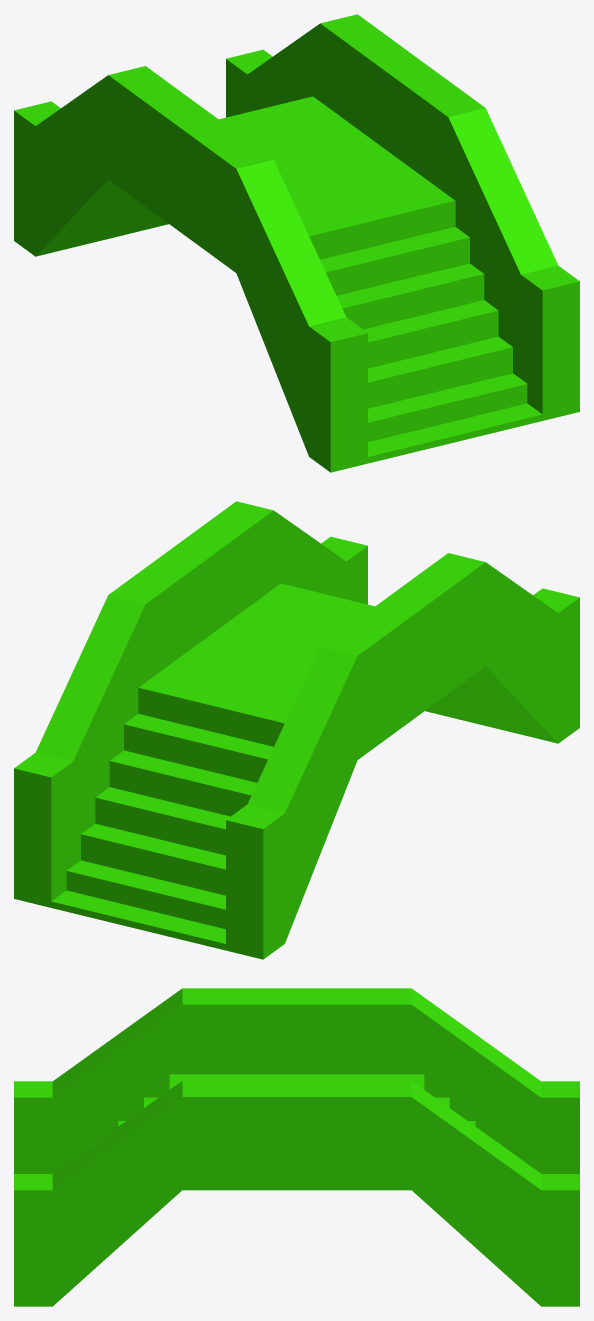
The model's file is bridge.fbx.
3 renders of one model, top to bottom at view 1: azimuth 30°, elevation 25°; view 2: azimuth 150°, elevation 25°; view 3: azimuth 270°, elevation 25°, orthographic. The views are drawn at different scales.
Parts seen in each view (by area): view 1: bridge; view 2: bridge; view 3: bridge.
Boxes of the visible parts, box(x1,y1,x2,y2) form: bridge: box(14, 14, 579, 472); bridge: box(14, 501, 579, 959); bridge: box(14, 988, 579, 1306).
Size of the model in its own units: 200 by 180 by 440.
